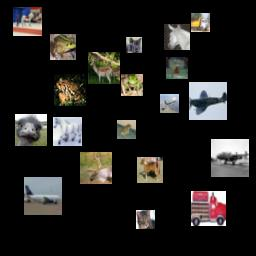airplane: (189, 82, 227, 120), (24, 177, 62, 215), (211, 139, 249, 177), (160, 94, 179, 113)
bird: (15, 114, 47, 146)
cat: (136, 210, 155, 229), (126, 37, 142, 53)
deer: (80, 152, 112, 184), (88, 52, 120, 84), (166, 57, 188, 79)
dog: (137, 157, 163, 183)
frog: (54, 74, 86, 106), (50, 34, 76, 60), (121, 74, 143, 96), (117, 120, 136, 139)
truck: (191, 191, 226, 226), (191, 13, 210, 32)
